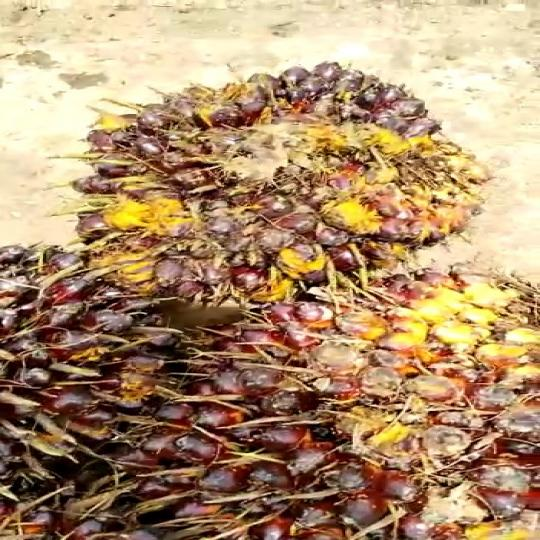kurang masak: (96, 60, 489, 262), (271, 284, 540, 540), (0, 221, 238, 504)
